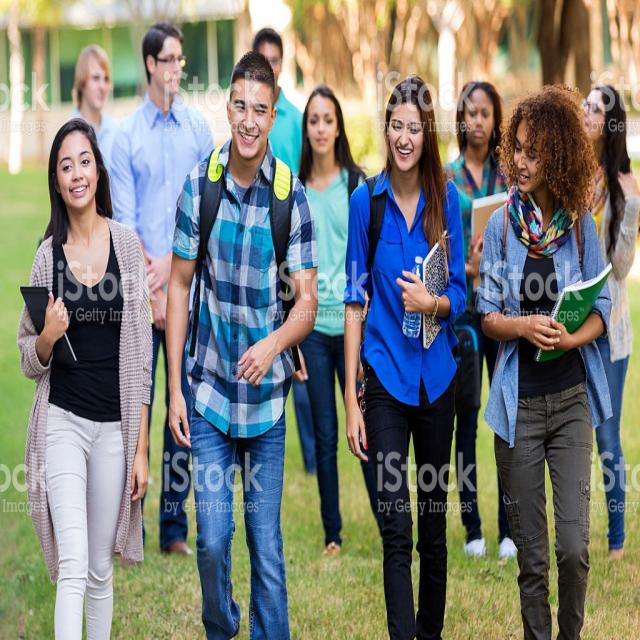body: (160, 42, 322, 639), (472, 78, 615, 639), (14, 111, 158, 639), (338, 68, 471, 639), (108, 22, 215, 558), (294, 83, 387, 562), (442, 80, 520, 560), (582, 83, 640, 560), (250, 25, 308, 181), (59, 42, 122, 174)
